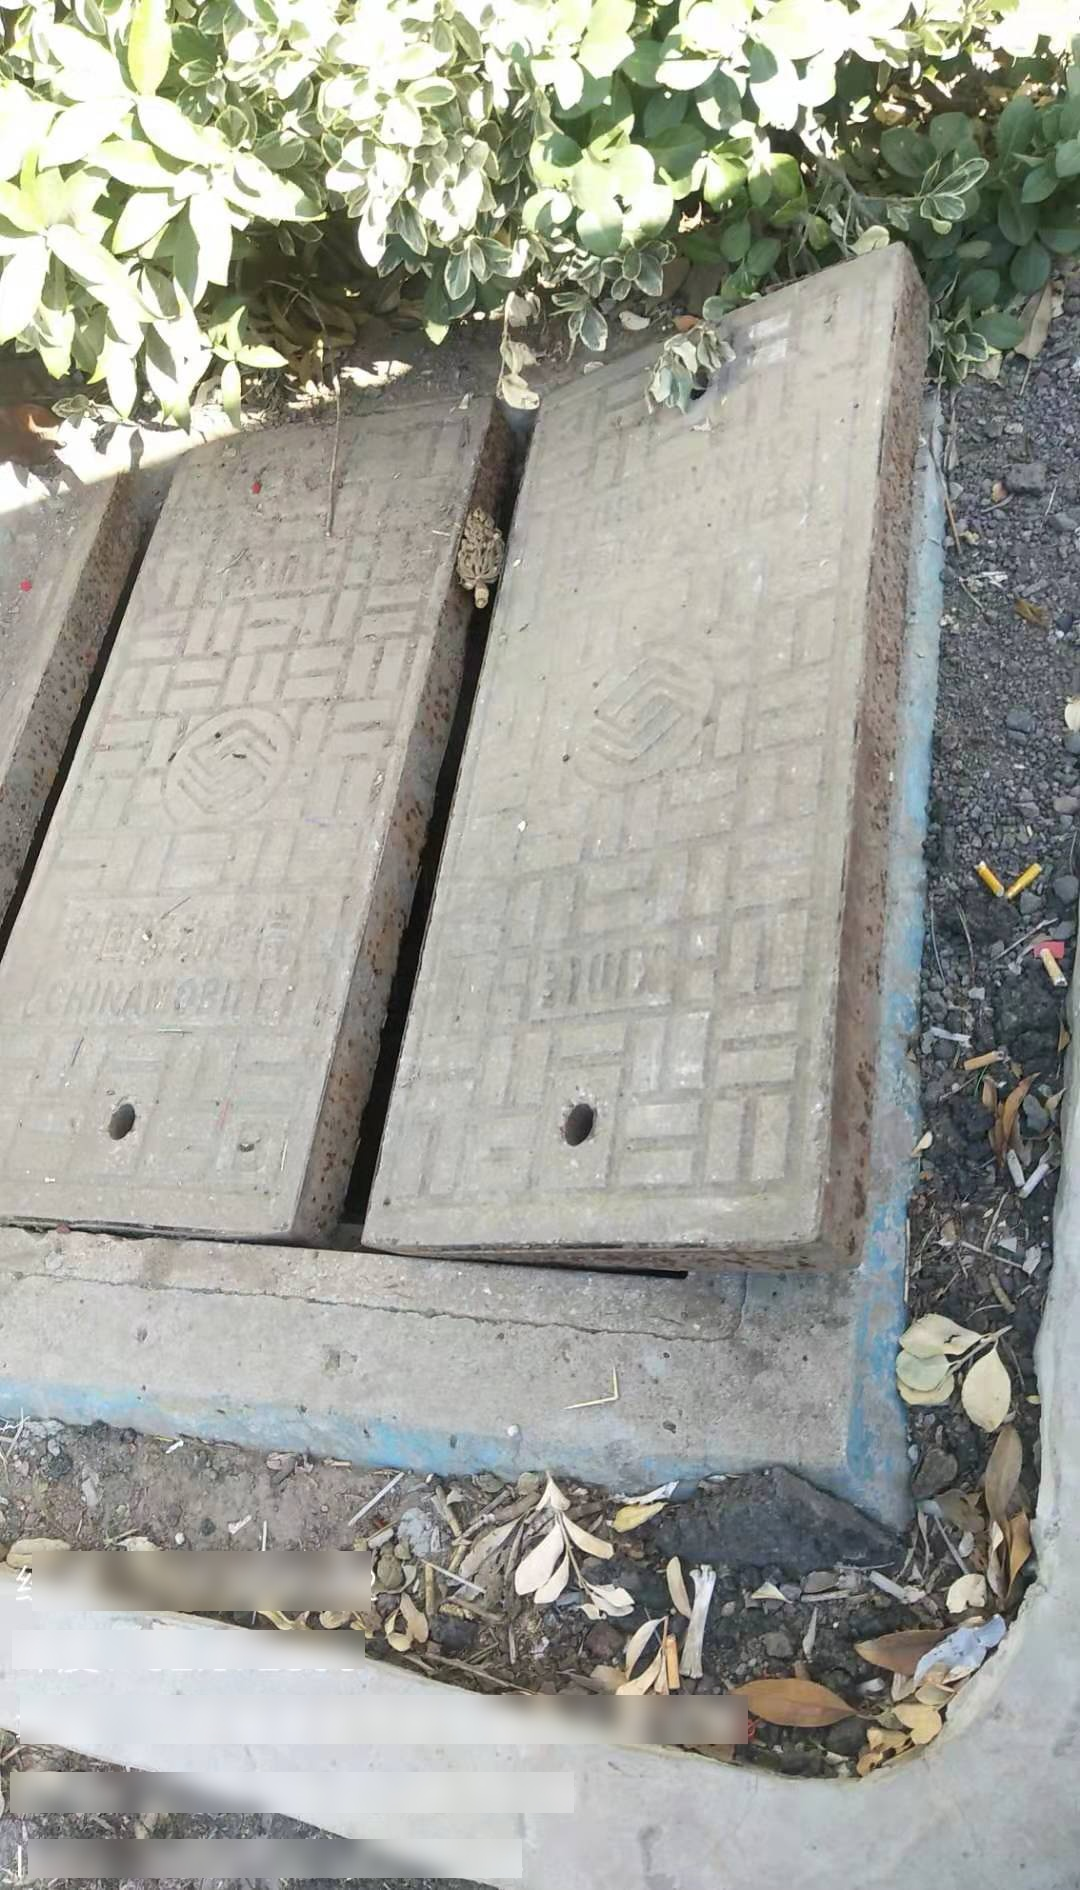uncovered: (1, 227, 935, 1293)
